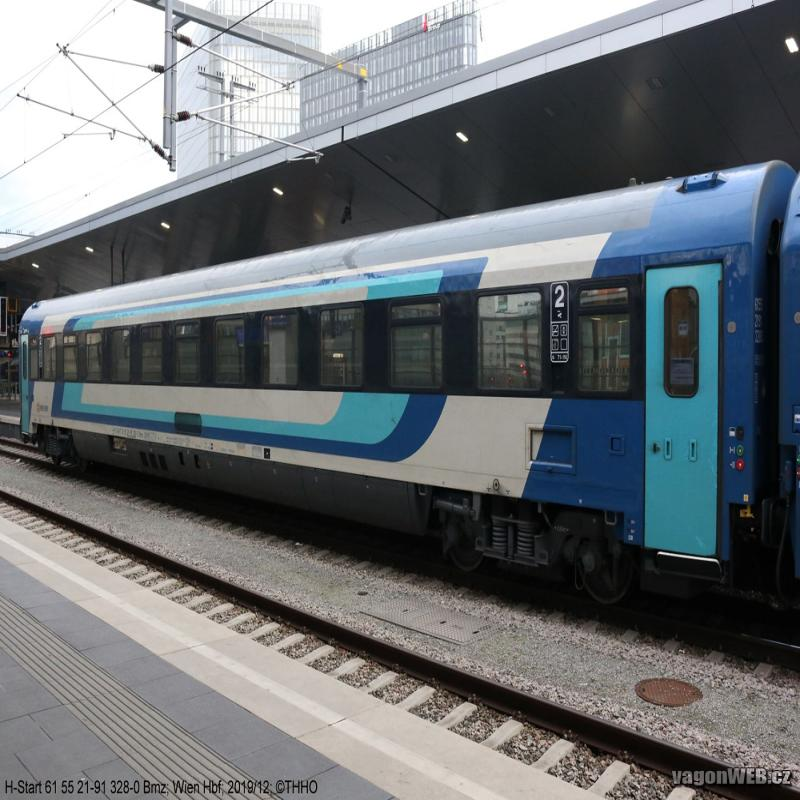train: (20, 161, 798, 644)
